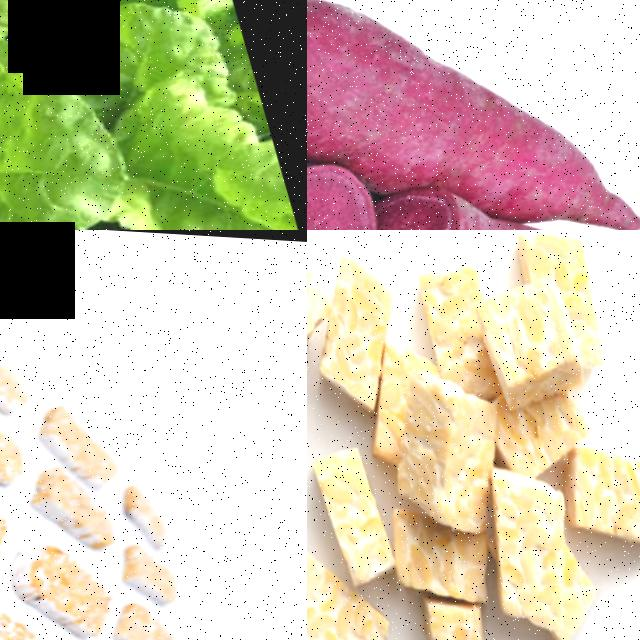spinach: (0, 28, 143, 230)
sweet potato: (307, 0, 640, 230), (311, 137, 634, 230), (307, 142, 401, 230)
tempeh: (464, 455, 596, 632), (465, 260, 594, 414), (310, 439, 401, 590), (4, 531, 100, 640), (404, 584, 516, 640)
tofu: (377, 360, 516, 525), (307, 249, 419, 408), (559, 430, 640, 572), (405, 246, 490, 369), (307, 541, 399, 640)
